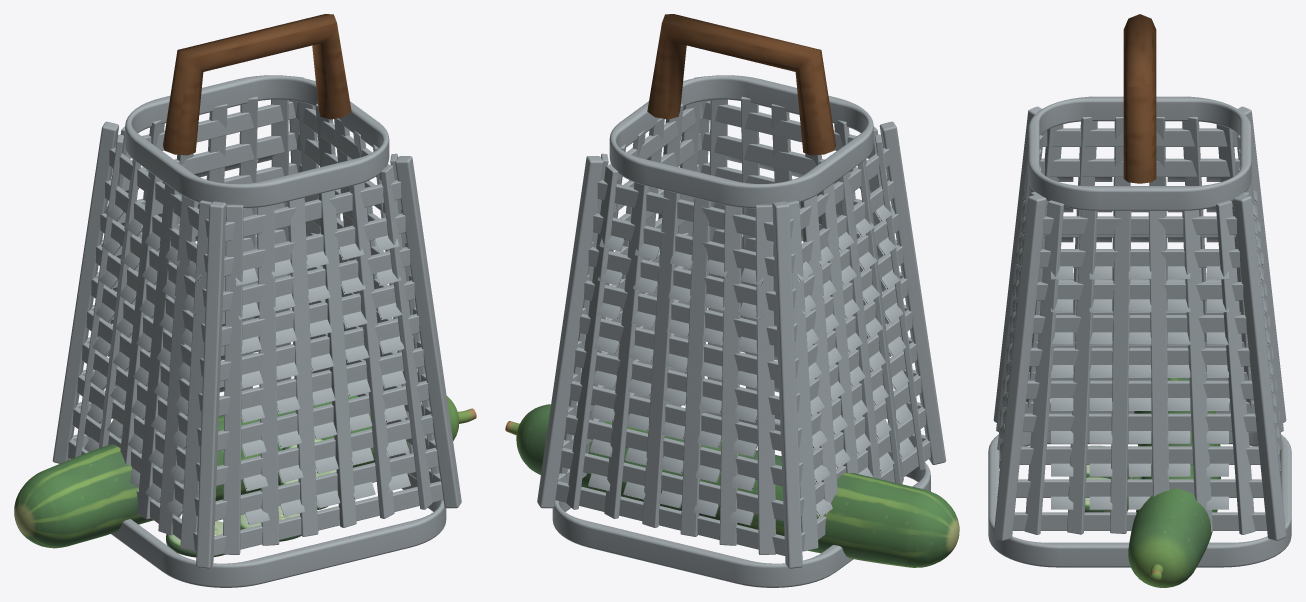
File: special.glb
3 renders of one model, left to right at view 1: azimuth 30°, elevation 25°; view 2: azimuth 150°, elevation 25°; view 3: azimuth 270°, elevation 25°, orthographic. The views are drawn at different scales.
Visible parts, largest first — view 1: Folded continuous grater corner, cucumber_body (×2), Walnut grater handhold; view 2: Folded continuous grater corner, cucumber_body, Walnut grater handhold; view 3: Folded continuous grater corner, cucumber_body (×2), Walnut grater handhold.
Part boxes in pixels (x1,y1,x2,y2): Folded continuous grater corner: (52,75,461,587); cucumber_body (×2): (14,395,476,557); Walnut grater handhold: (163,14,351,155); Folded continuous grater corner: (537,75,946,587); cucumber_body: (505,404,959,567); Walnut grater handhold: (647,14,835,155); Folded continuous grater corner: (988,96,1291,567); cucumber_body (×2): (1085,378,1220,587); Walnut grater handhold: (1123,14,1156,183).
Bounding box in the file's own units: 0.2432 × 0.245 × 0.148.
4 materials, 3 textured.
